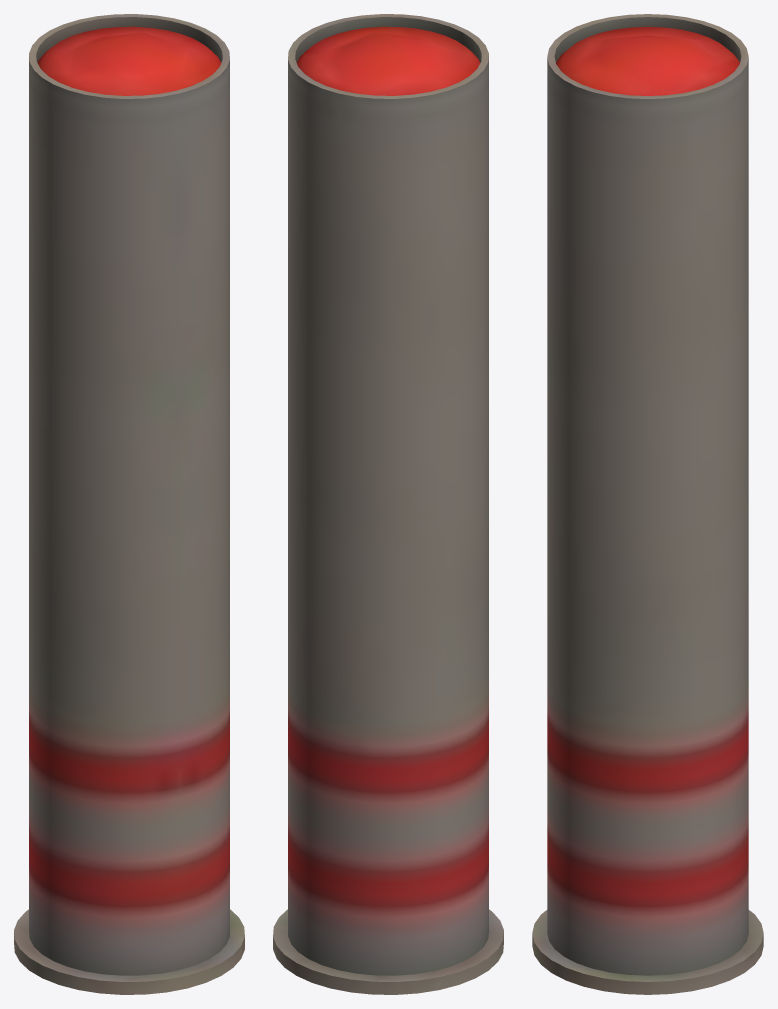
File: flare_cartridge.glb
3 renders of one model, left to right at view 1: azimuth 30°, elevation 25°; view 2: azimuth 150°, elevation 25°; view 3: azimuth 270°, elevation 25°, orthographic.
Visible parts, largest first — view 1: flare_cartridge; view 2: flare_cartridge; view 3: flare_cartridge.
Part boxes in pixels (left/top/right/bottom): flare_cartridge: left=14, top=14, right=244, bottom=994; flare_cartridge: left=273, top=14, right=503, bottom=994; flare_cartridge: left=532, top=14, right=763, bottom=994.
Bounding box in the file's own units: 0.028 × 0.12 × 0.028.
1 material, 1 textured.
